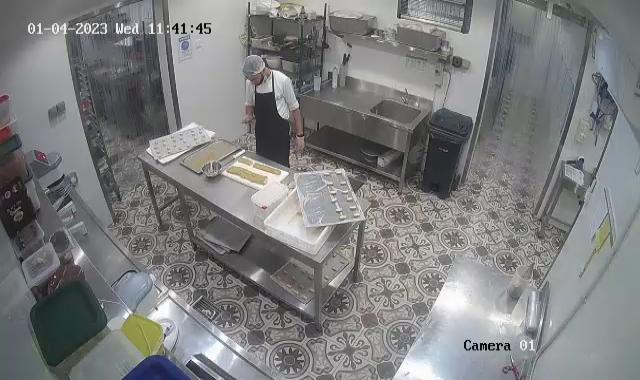hairnet: (242, 54, 266, 83)
